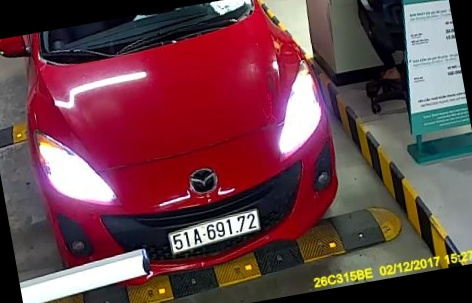plate: (163, 209, 265, 262)
